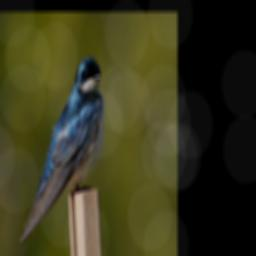Swallow: (19, 51, 106, 249)
